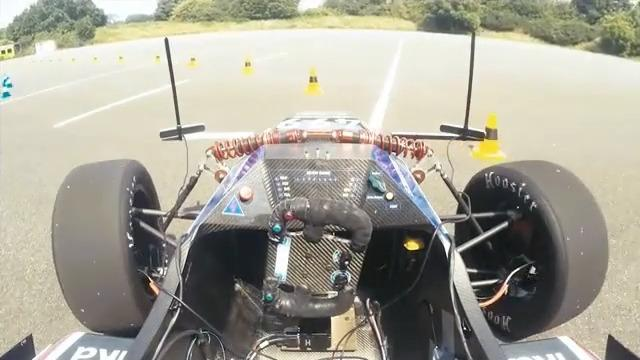blue_cone: (0, 84, 10, 99), (4, 73, 12, 89)
yellow_cone: (470, 110, 504, 162), (302, 68, 324, 97), (241, 56, 254, 77), (188, 54, 199, 73), (115, 53, 128, 69), (155, 53, 166, 68), (90, 53, 100, 68)
